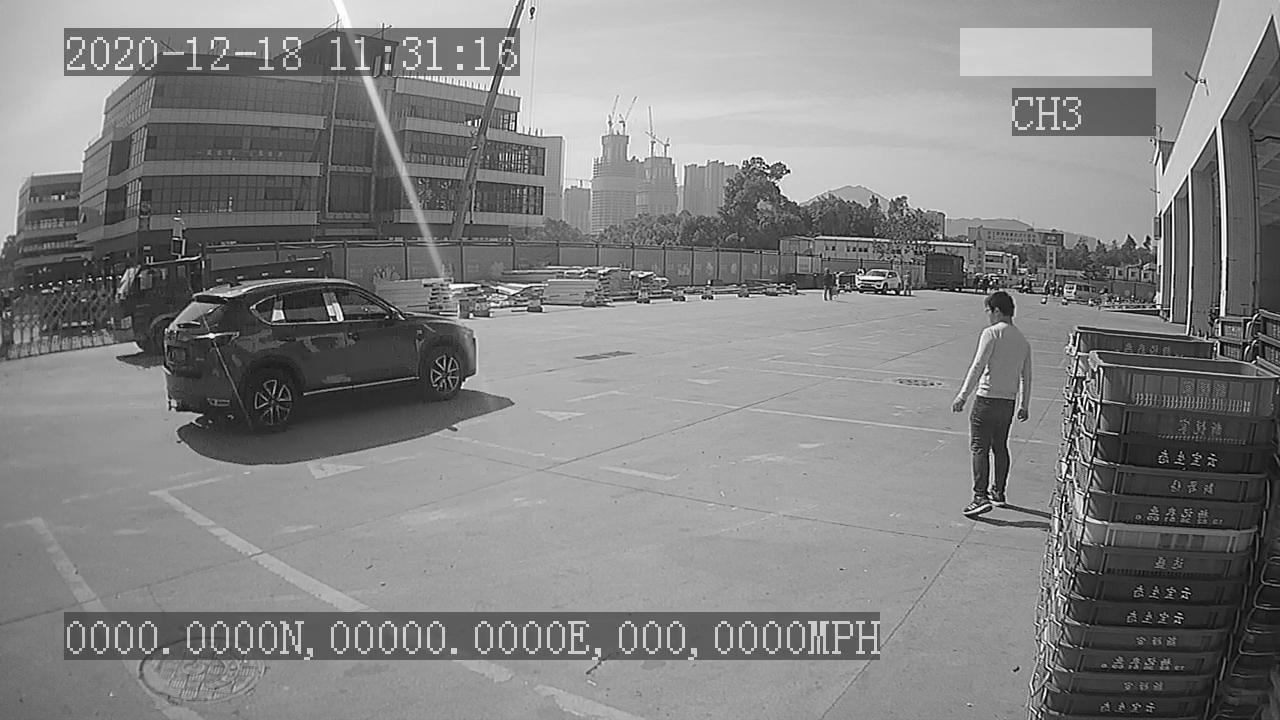person: (953, 289, 1034, 523)
